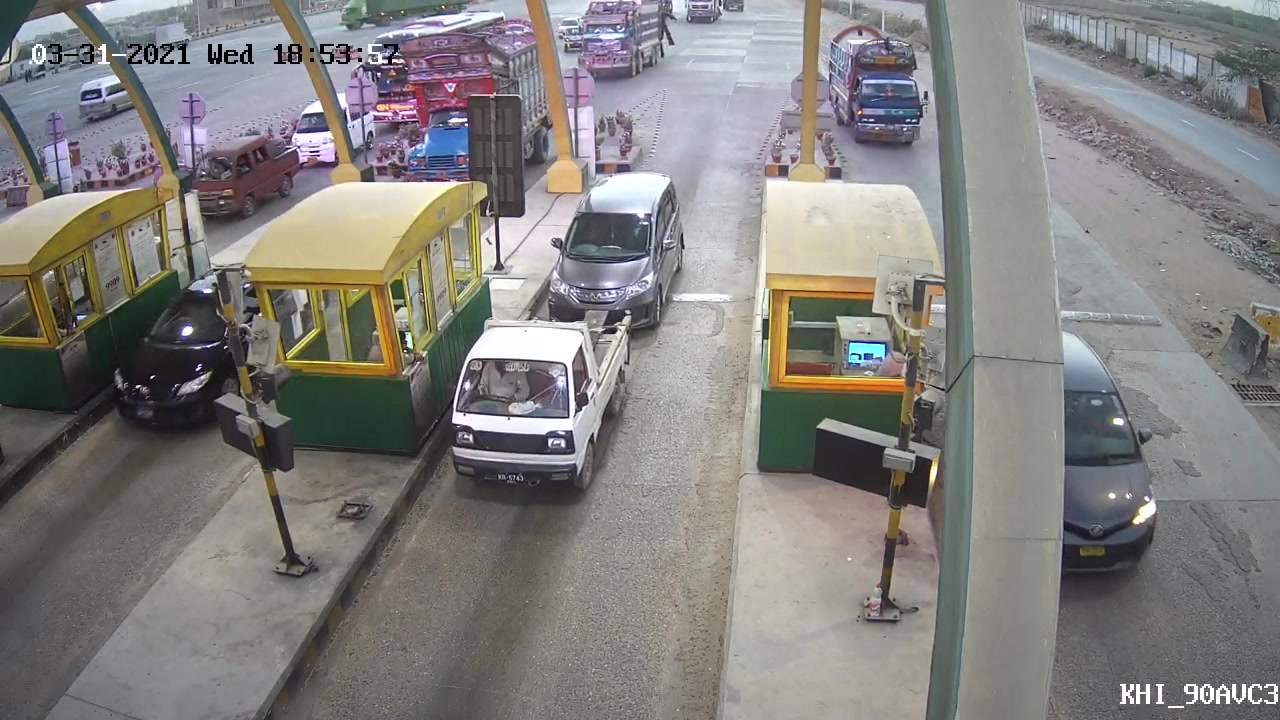F1: (438, 313, 637, 504), (544, 167, 689, 329)
